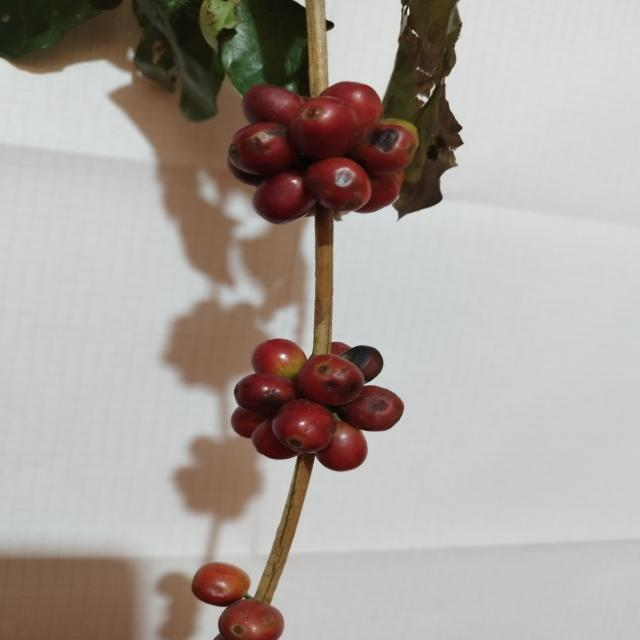Danado: (337, 385, 406, 434), (234, 374, 297, 417), (339, 345, 385, 386)
Infectado: (297, 353, 364, 411), (356, 120, 420, 177)
Sano: (274, 400, 337, 456), (314, 416, 369, 474), (191, 562, 252, 610), (219, 597, 286, 640), (252, 339, 309, 382)
